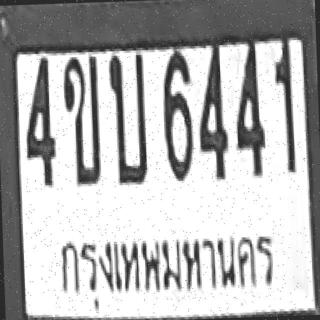A02: (61, 54, 100, 185)
A26: (107, 52, 147, 183)
N04: (232, 39, 264, 176), (22, 55, 55, 186), (195, 44, 227, 179)
N06: (160, 49, 193, 180)
P04: (52, 221, 283, 313)
